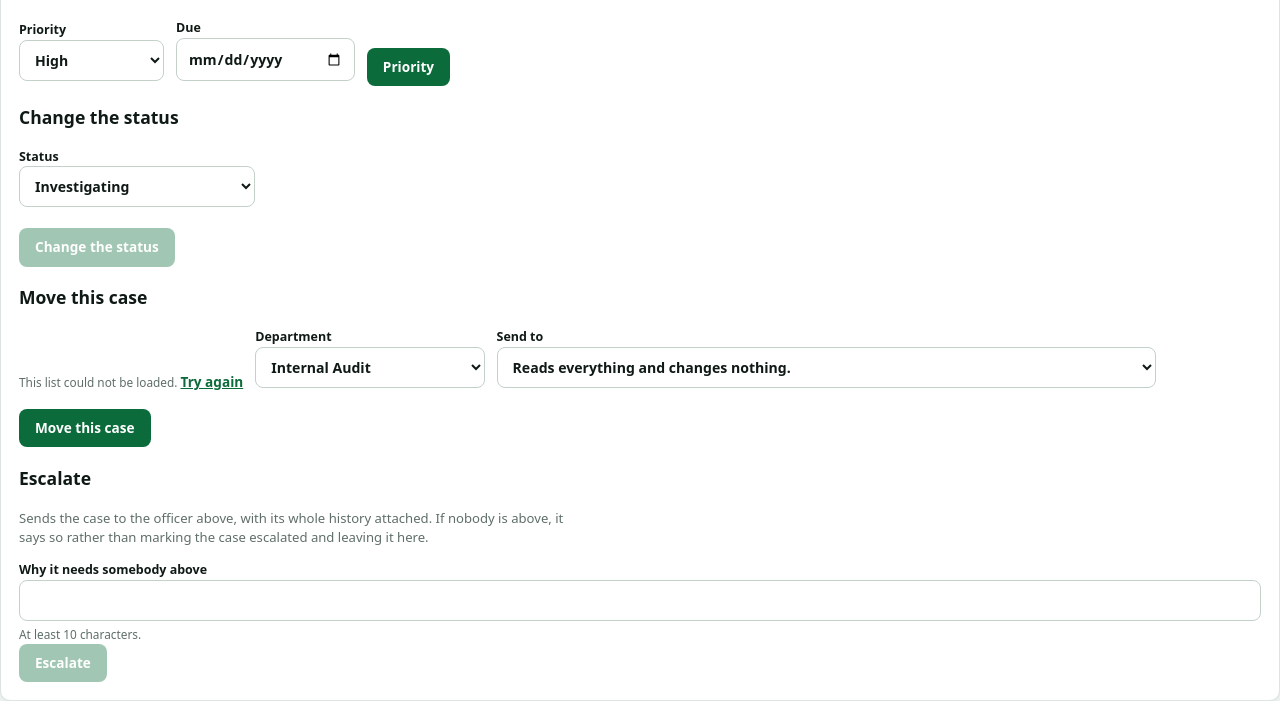
Test: an administrator whose staff list did not arrive › can ask again, and gets the picker back
The width and height of the screenshot is (1280, 701).
(page scrolled)
Expected: the text "This list could not be loaded." is shown, [19,374,177,390]
Click the button "Try again": (212,383) [180,372,243,393]
(page scrolled)
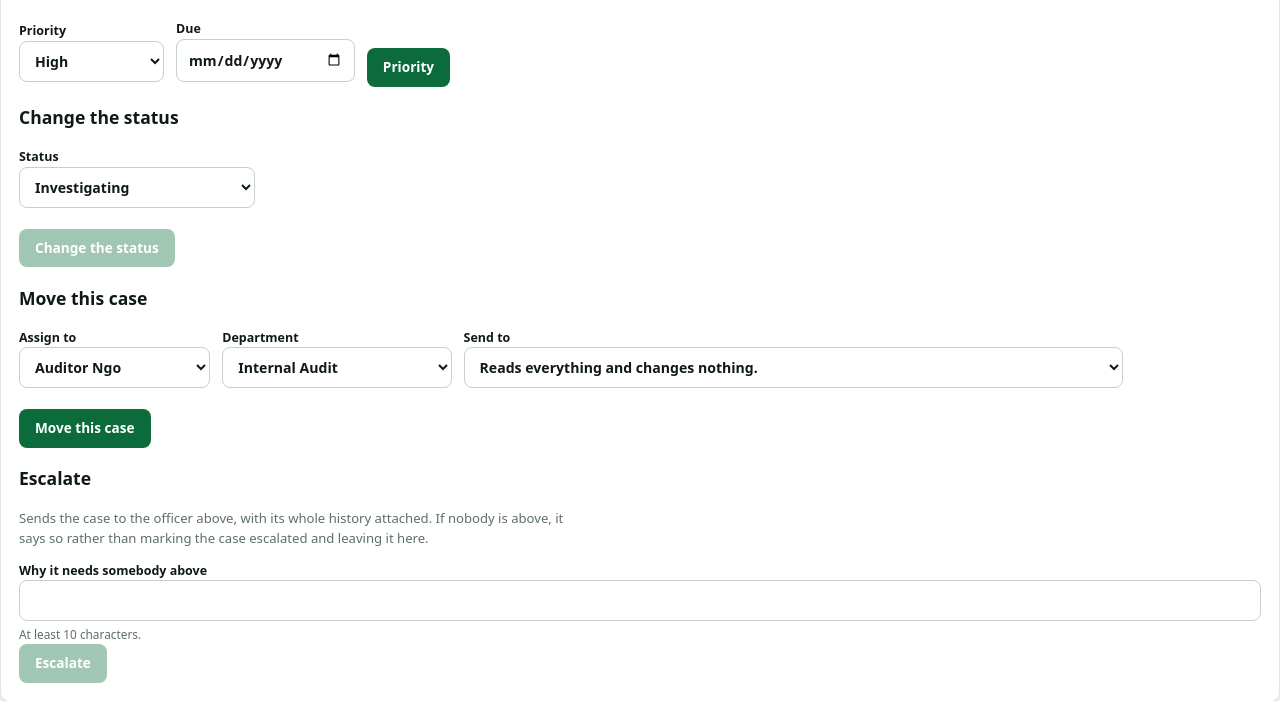
Expected: the dropdown labelled "Assign to" is shown, [19,347,210,388]
Expected: the text "This list could not be loaded." is gone
